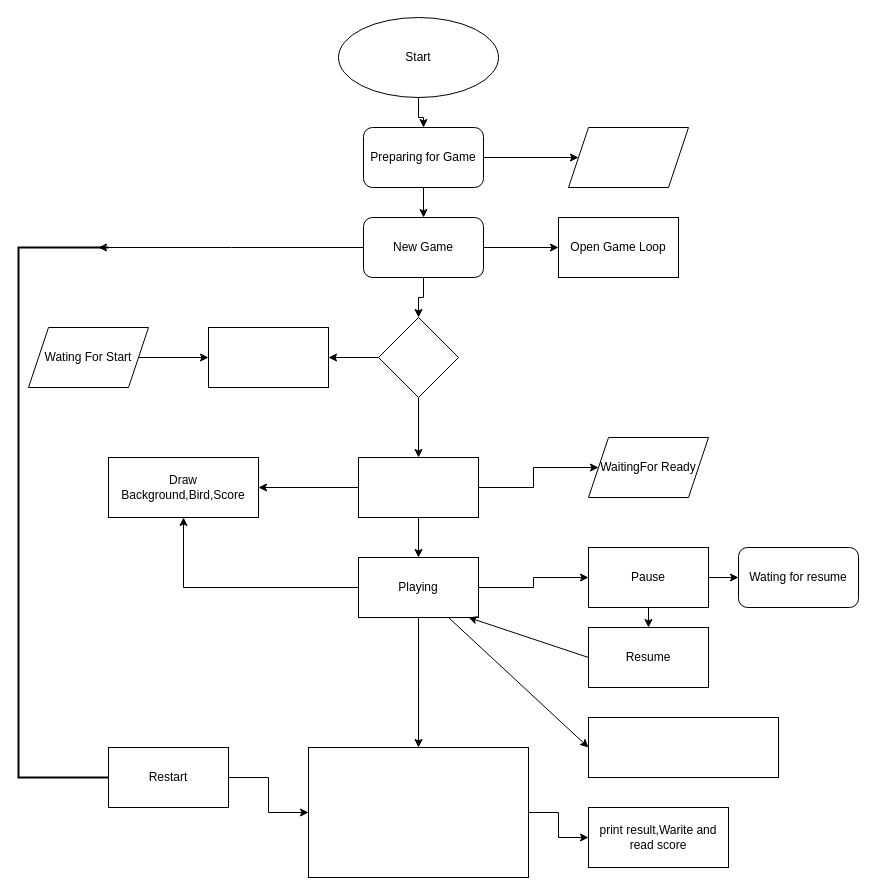
This 876x895 diagram has some shape labels left out. Each missing label, with the centre of its shape:
Create New Game: the point at 628,157
Decision: the point at 418,357
Flappy,Sound,Start,Animation: the point at 683,747
Game Over: the point at 418,812
visualizing: the point at 268,357
Wating: the point at 418,487
